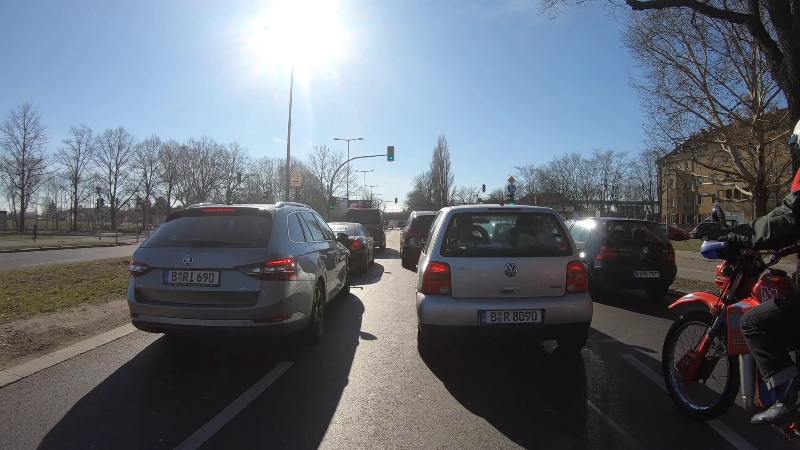Plate: (160, 268, 222, 288), (477, 308, 546, 325), (631, 268, 663, 279)
